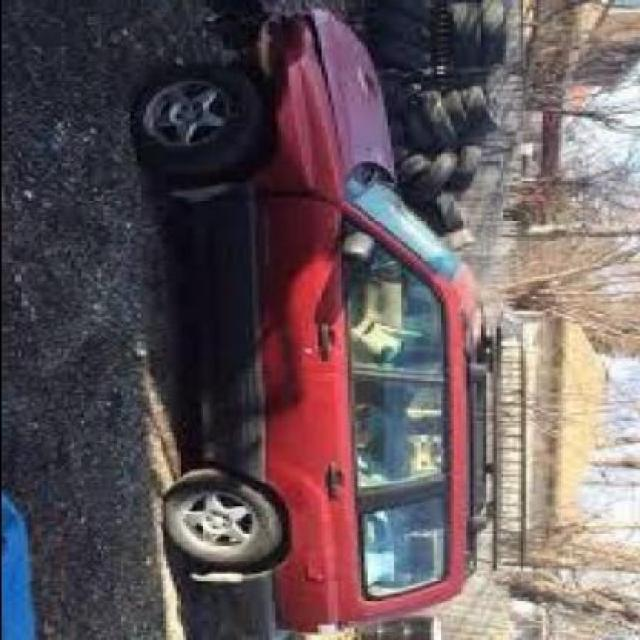damage: (178, 1, 351, 205)
